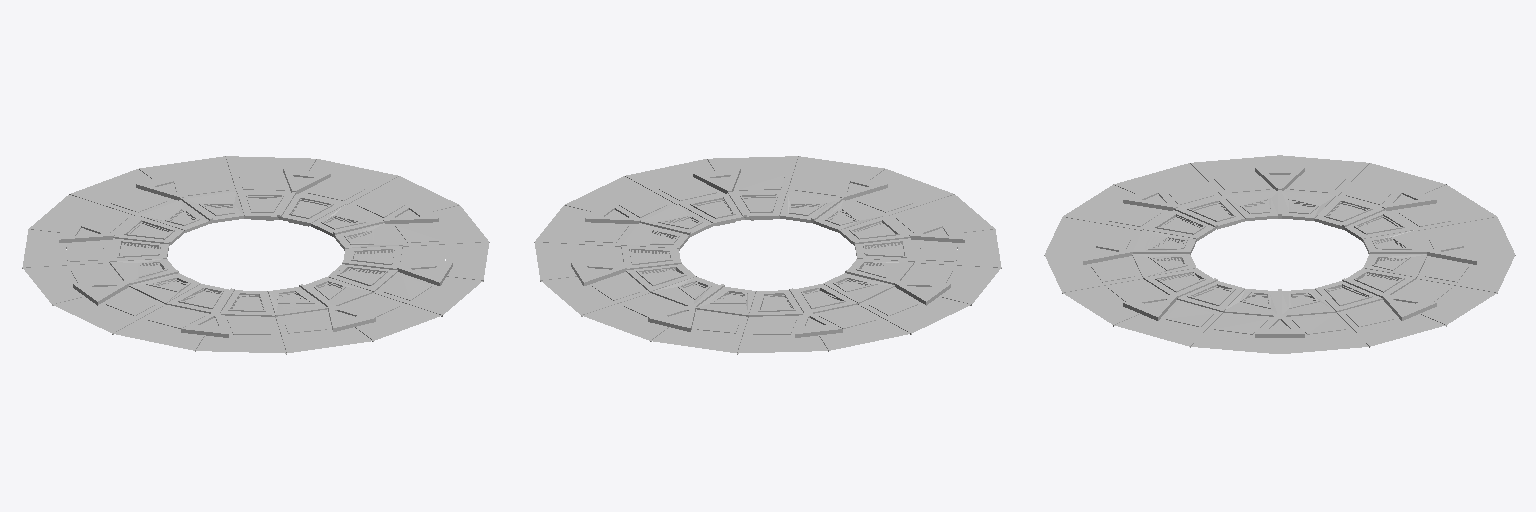
The model's file is Apple_Core_Roof.obj.
The picture shows the model from 3 angles: view 1: azimuth 30°, elevation 25°; view 2: azimuth 150°, elevation 25°; view 3: azimuth 270°, elevation 25°; orthographic projection.
Parts seen in each view (by area): view 1: Circle.156_Circle.131, Circle.157_Circle.132, Circle.004, Circle.155_Circle.130, Circle.138_Circle.005, Circle.148_Circle.123, Circle.001, Circle.006_Circle.003, Circle.000; view 2: Circle.156_Circle.131, Circle.157_Circle.132, Circle.004, Circle.155_Circle.130, Circle.138_Circle.005, Circle.148_Circle.123, Circle.001, Circle.006_Circle.003, Circle.000; view 3: Circle.156_Circle.131, Circle.157_Circle.132, Circle.004, Circle.155_Circle.130, Circle.138_Circle.005, Circle.148_Circle.123, Circle.001, Circle.006_Circle.003, Circle.000.
Part boxes in pixels (bbox=[...]): Circle.156_Circle.131: bbox=[22, 156, 489, 354]; Circle.157_Circle.132: bbox=[66, 174, 445, 334]; Circle.004: bbox=[109, 192, 402, 317]; Circle.155_Circle.130: bbox=[59, 168, 452, 337]; Circle.138_Circle.005: bbox=[117, 194, 394, 311]; Circle.148_Circle.123: bbox=[120, 196, 391, 309]; Circle.001: bbox=[113, 192, 397, 312]; Circle.006_Circle.003: bbox=[122, 198, 391, 309]; Circle.000: bbox=[76, 176, 434, 326]; Circle.156_Circle.131: bbox=[534, 156, 1001, 354]; Circle.157_Circle.132: bbox=[578, 174, 957, 334]; Circle.004: bbox=[621, 192, 914, 316]; Circle.155_Circle.130: bbox=[571, 168, 964, 337]; Circle.138_Circle.005: bbox=[629, 194, 906, 311]; Circle.148_Circle.123: bbox=[632, 196, 903, 309]; Circle.001: bbox=[627, 192, 909, 312]; Circle.006_Circle.003: bbox=[633, 199, 903, 309]; Circle.000: bbox=[589, 176, 947, 326]; Circle.156_Circle.131: bbox=[1044, 155, 1515, 353]; Circle.157_Circle.132: bbox=[1091, 174, 1468, 334]; Circle.004: bbox=[1132, 191, 1426, 316]; Circle.155_Circle.130: bbox=[1083, 168, 1476, 337]; Circle.138_Circle.005: bbox=[1148, 197, 1411, 308]; Circle.148_Circle.123: bbox=[1155, 199, 1404, 306]; Circle.001: bbox=[1133, 190, 1426, 312]; Circle.006_Circle.003: bbox=[1162, 205, 1396, 303]; Circle.000: bbox=[1096, 175, 1463, 328].
Size of the model in its own units: 6.01 by 0.1395 by 6.01.